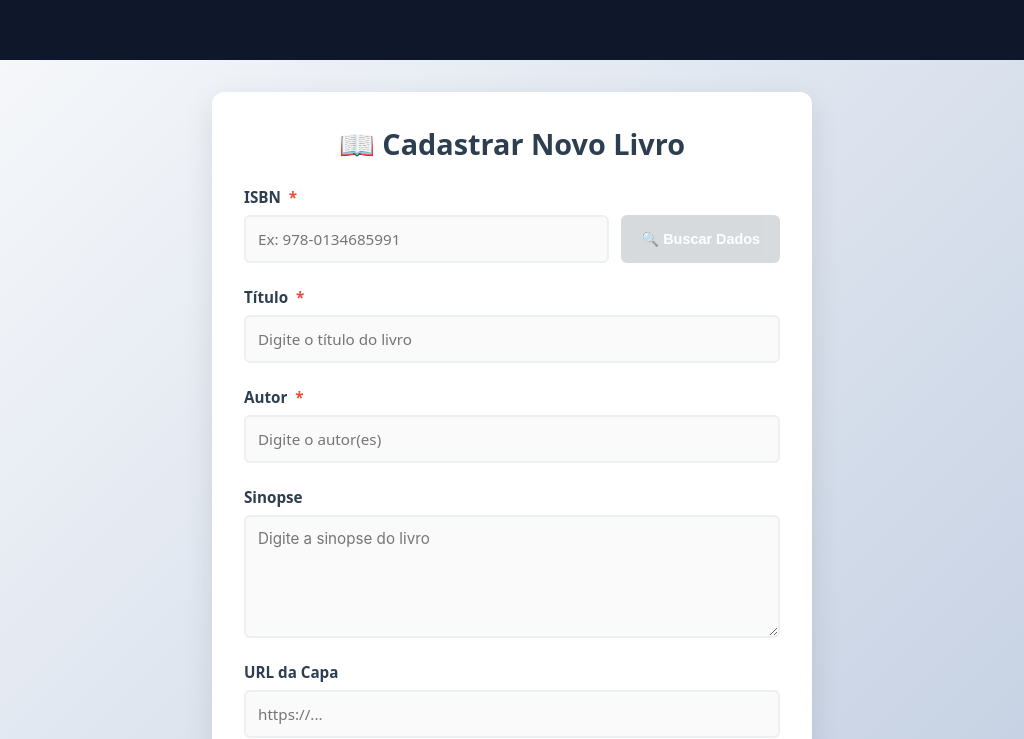
FormularioCadastroLivro - Componente › Mensagens de feedback › deve exibir erro quando Título é vazio ao salvar
The image size is (1024, 739).
Type "9780134685991" into the field labelled "ISBN *" at (427, 239), box 244,215 -> 609,263
(page scrolled)
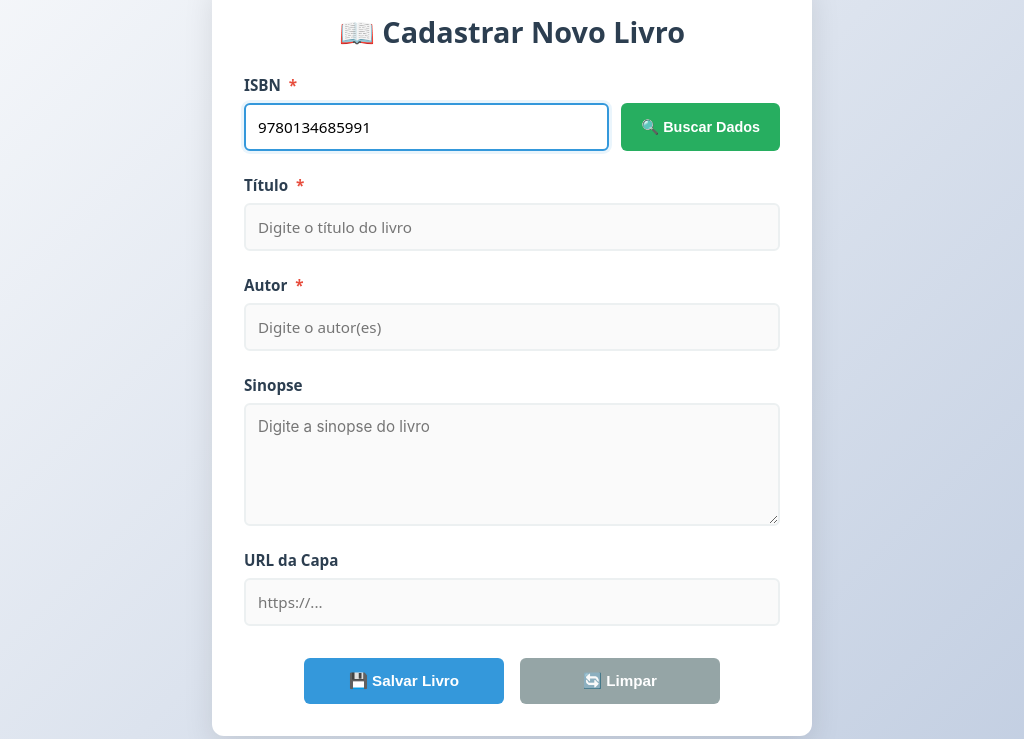
Click the button "💾 Salvar Livro" at (404, 681), box 304,658 -> 504,704
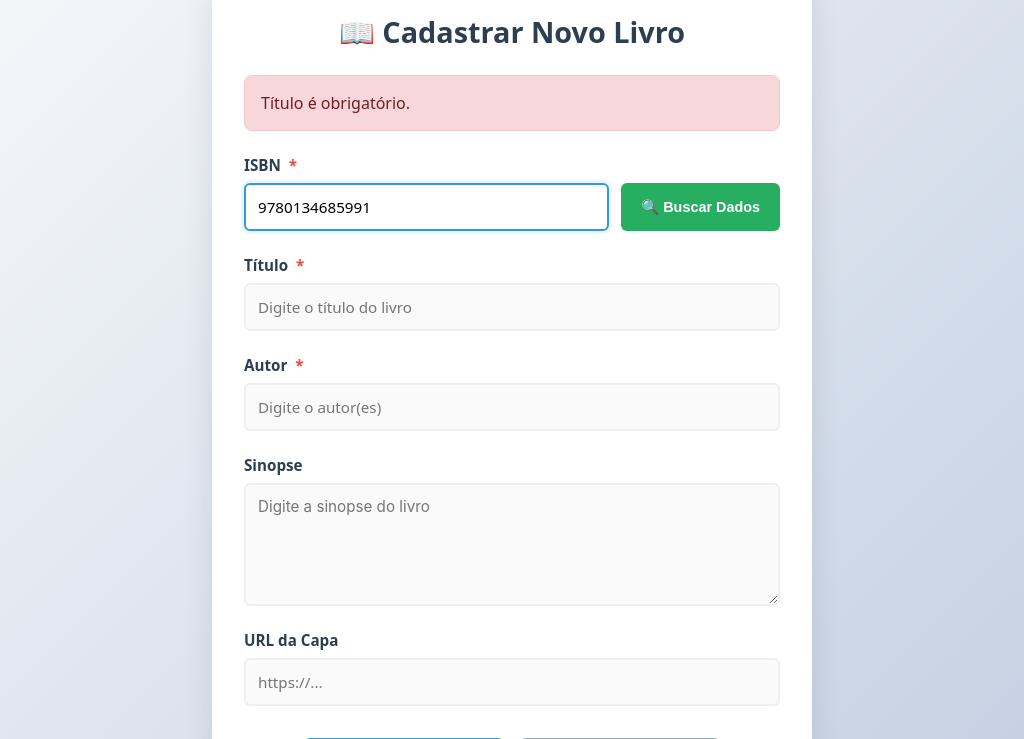
Expected: the text "Título é obrigatório." is shown, 244,75 -> 780,131
